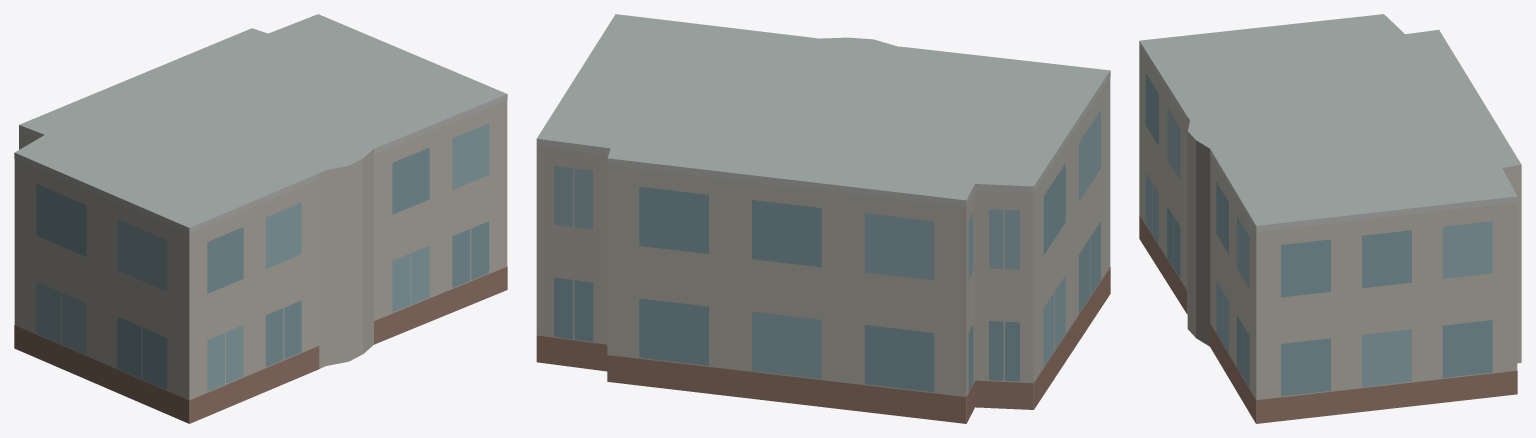
File: survey-upis-32624084.glb
The picture shows the model from 3 angles, left to right: view 1: azimuth 30°, elevation 25°; view 2: azimuth 150°, elevation 25°; view 3: azimuth 270°, elevation 25°; orthographic projection. The views are drawn at different scales.
Parts seen in each view (by area): view 1: survey-upis-32624084.tmp; view 2: survey-upis-32624084.tmp; view 3: survey-upis-32624084.tmp.
Part boxes in pixels (x1=…): survey-upis-32624084.tmp: x1=14, y1=14, x2=507, y2=423; survey-upis-32624084.tmp: x1=536, y1=14, x2=1110, y2=423; survey-upis-32624084.tmp: x1=1139, y1=14, x2=1521, y2=423.
Bounding box in the file's own units: 18.15 × 7.9 × 13.84.
